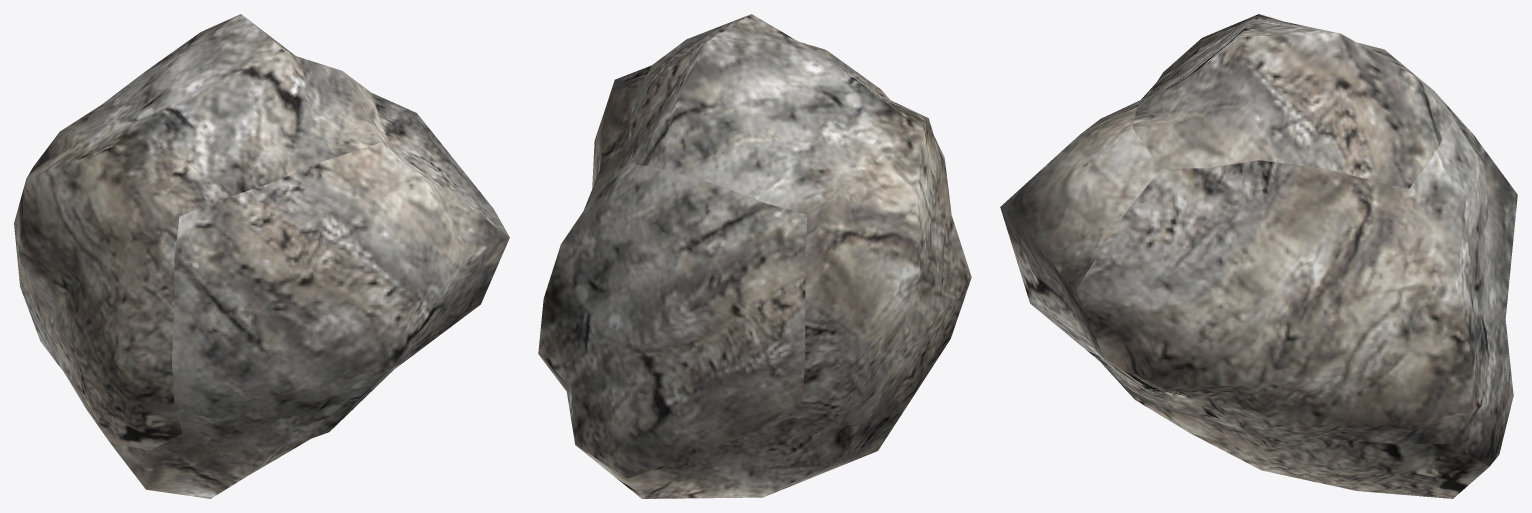
Rendered from rockE.FBX.
The picture shows the model from 3 angles, left to right: view 1: azimuth 30°, elevation 25°; view 2: azimuth 150°, elevation 25°; view 3: azimuth 270°, elevation 25°; orthographic projection. The views are drawn at different scales.
Visible parts, largest first — view 1: rockLP006; view 2: rockLP006; view 3: rockLP006.
Boxes of the visible parts, x1,y1,x2,y2 form: rockLP006: (14,14,509,498); rockLP006: (538,14,971,498); rockLP006: (1000,14,1517,498).
Bounding box in the file's own units: 242 × 266 × 265.
1 material, 1 textured.
